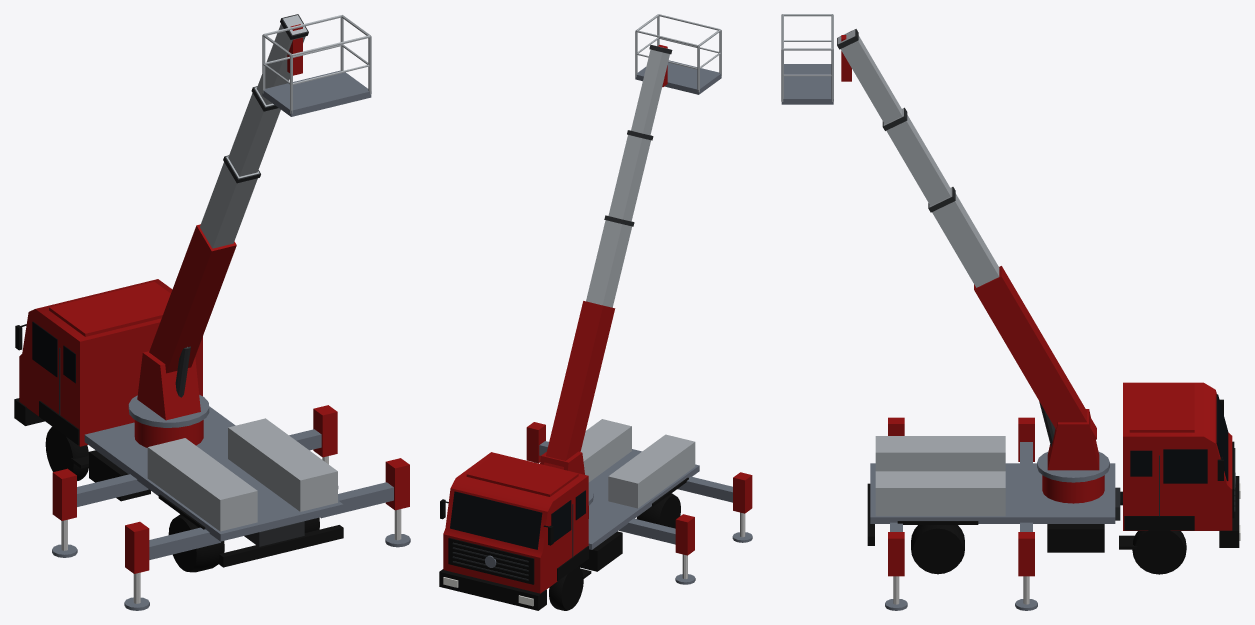
The model's file is plant.truck.access_platform_2_axle.glb.
3 renders of one model, left to right at view 1: azimuth 30°, elevation 25°; view 2: azimuth 150°, elevation 25°; view 3: azimuth 270°, elevation 25°, orthographic. The views are drawn at different scales.
Parts seen in each view (by area): view 1: chassis__car_red, body__steel_galvanised, body__steel_painted, boom__steel_galvanised, boom__car_red, outriggers__steel_painted, outriggers__car_red, chassis__plastic_black, body__car_red, wheels__rubber, basket__steel_painted, basket__steel_galvanised (+4 smaller); view 2: chassis__car_red, boom__steel_galvanised, body__steel_galvanised, chassis__plastic_black, boom__car_red, chassis__glass_dark, body__steel_painted, outriggers__car_red, outriggers__steel_painted, wheels__rubber, basket__steel_painted, basket__steel_galvanised (+2 smaller); view 3: chassis__car_red, body__steel_galvanised, boom__steel_galvanised, body__steel_painted, boom__car_red, chassis__plastic_black, wheels__rubber, body__car_red, chassis__glass_dark, outriggers__car_red, basket__steel_painted, basket__steel_galvanised (+2 smaller).
Part boxes in pixels (x1,y1,x2,y2): chassis__car_red: (19,279,202,446); body__steel_galvanised: (147,418,337,531); body__steel_painted: (84,395,343,541); boom__steel_galvanised: (200,15,307,248); boom__car_red: (149,24,302,373); outriggers__steel_painted: (52,429,410,610); outriggers__car_red: (52,405,409,573); chassis__plastic_black: (14,324,343,567); body__car_red: (134,351,203,447); wheels__rubber: (45,426,319,572); basket__steel_painted: (262,70,371,116); basket__steel_galvanised: (262,15,371,113); chassis__car_red: (443,452,588,593); boom__steel_galvanised: (586,45,670,307); body__steel_galvanised: (580,419,695,508); chassis__plastic_black: (439,477,688,610); boom__car_red: (543,45,667,469); chassis__glass_dark: (450,490,585,549); body__steel_painted: (588,449,699,549); outriggers__car_red: (526,422,752,555); outriggers__steel_painted: (539,441,752,584); wheels__rubber: (549,493,680,610); basket__steel_painted: (635,60,721,94); basket__steel_galvanised: (635,14,721,92); chassis__car_red: (1123,382,1232,530); body__steel_galvanised: (875,436,1005,516); boom__steel_galvanised: (837,29,999,287); body__steel_painted: (870,452,1115,523); boom__car_red: (841,35,1096,440); chassis__plastic_black: (867,399,1239,552); wheels__rubber: (911,525,1186,574); body__car_red: (1042,409,1104,503); chassis__glass_dark: (1130,394,1228,483); outriggers__car_red: (888,417,1034,576); basket__steel_painted: (781,64,833,104); basket__steel_galvanised: (781,14,833,101).
Bounding box in the file's own units: 5.64 × 10.96 × 8.82.
